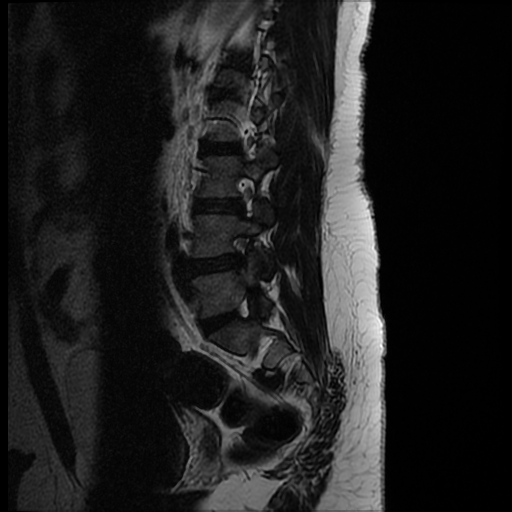LFS0: (224, 164, 264, 224)
LFS2: (221, 225, 262, 278)
